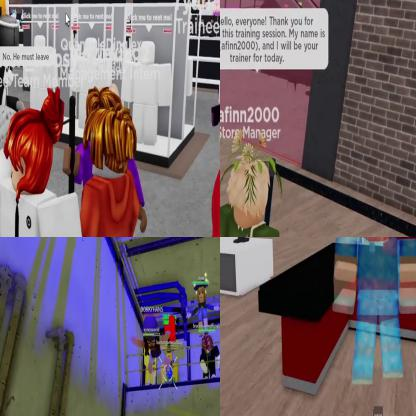Roblox-Avatar: (1, 86, 84, 237), (63, 87, 148, 234), (333, 238, 416, 386), (73, 102, 141, 237), (221, 128, 285, 237), (184, 59, 220, 237), (131, 315, 171, 374), (188, 273, 221, 337), (200, 334, 220, 381)
